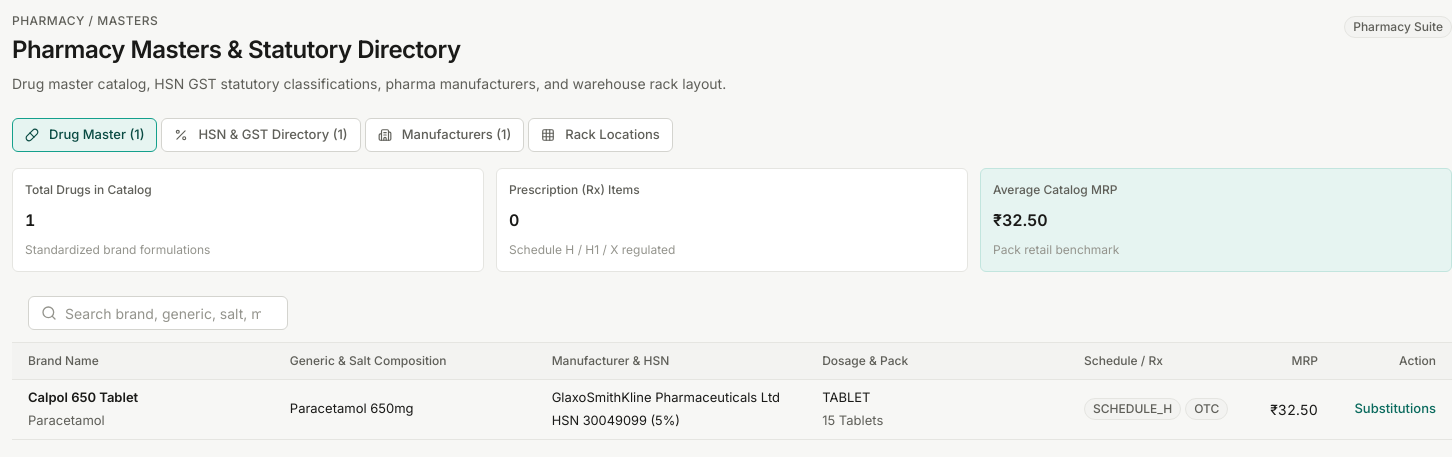
it: PharmacyMastersPage › navigates to HSN and Manufacturers tabs
Expected: the text "Calpol 650 Tablet" is shown, x1=28 y1=389 x2=138 y2=405
Click HSN tab
Click the button "HSN & GST Directory (1)" at (261, 135), box x1=161 y1=118 x2=361 y2=152
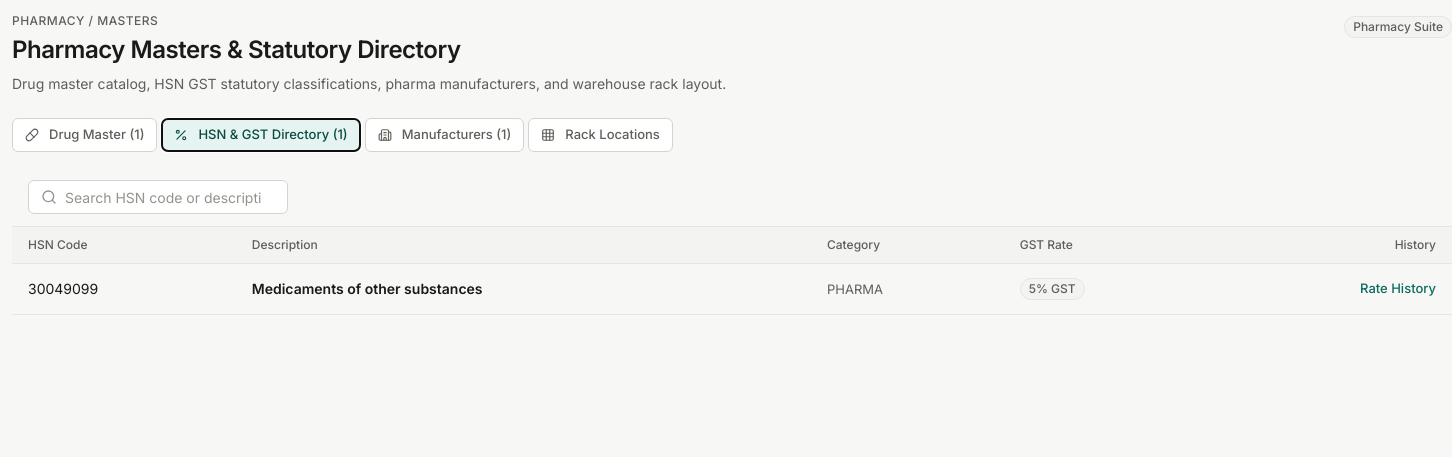
Expected: the text "30049099" is shown, x1=28 y1=280 x2=98 y2=297
Expected: the text "Medicaments of other substances" is shown, x1=252 y1=280 x2=483 y2=297
Click Manufacturers tab
Click the button "Manufacturers (1)" at (444, 135), box x1=365 y1=118 x2=524 y2=152
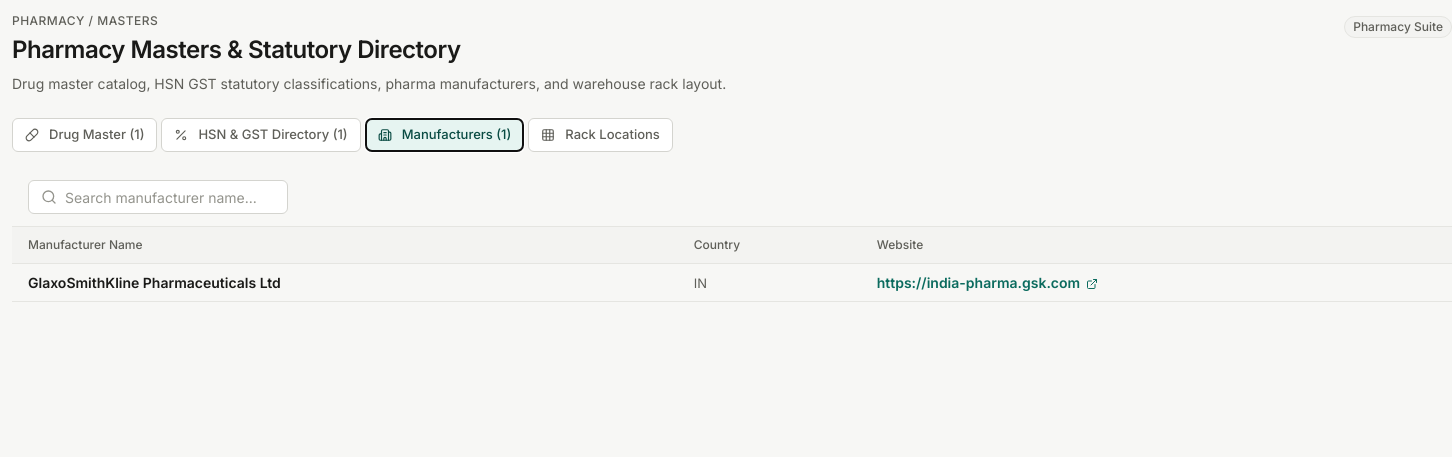
Expected: the text "GlaxoSmithKline Pharmaceuticals Ltd" is shown, x1=28 y1=274 x2=281 y2=291
Expected: the link "https://india-pharma.gsk.com" is shown, x1=877 y1=274 x2=1098 y2=291
